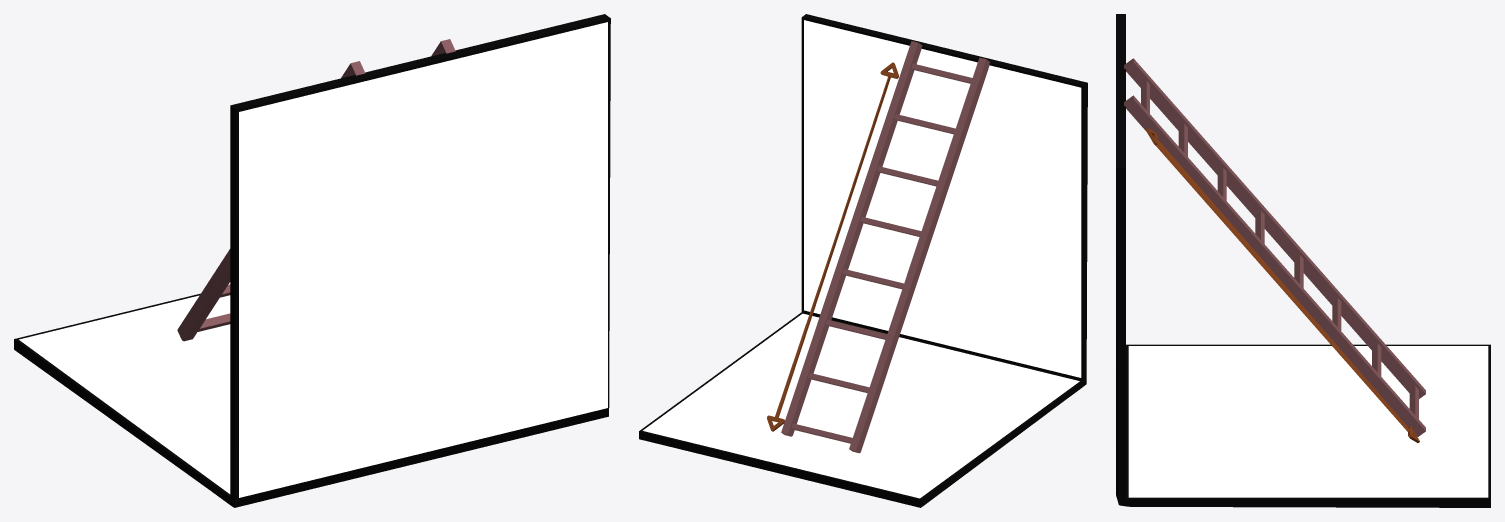
Rendered from LADDER_FINAL.glb.
The picture shows the model from 3 angles, left to right: view 1: azimuth 30°, elevation 25°; view 2: azimuth 150°, elevation 25°; view 3: azimuth 270°, elevation 25°; orthographic projection. The views are drawn at different scales.
Visible parts, largest first — view 1: Cube, Ladders.018; view 2: Cube, Ladders.018, XMLID_227_.002; view 3: Cube, Ladders.018, XMLID_227_.002.
Part boxes in pixels (bbox=[...]): Cube: bbox=[14, 14, 610, 507]; Ladders.018: bbox=[177, 39, 455, 341]; Cube: bbox=[639, 14, 1087, 507]; Ladders.018: bbox=[781, 41, 990, 453]; XMLID_227_.002: bbox=[767, 62, 898, 431]; Cube: bbox=[1116, 14, 1490, 507]; Ladders.018: bbox=[1124, 58, 1425, 436]; XMLID_227_.002: bbox=[1145, 128, 1419, 442].
Size of the model in its own units: 2 by 2.1 by 2.05.
